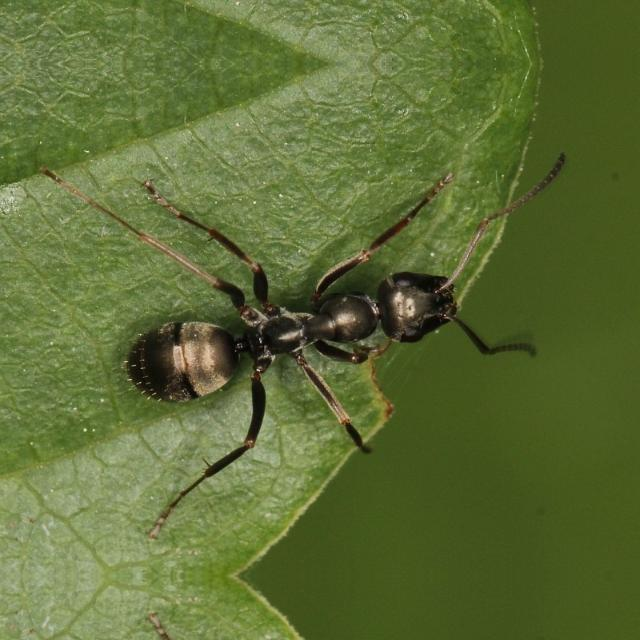Formica: (107, 158, 506, 480)
